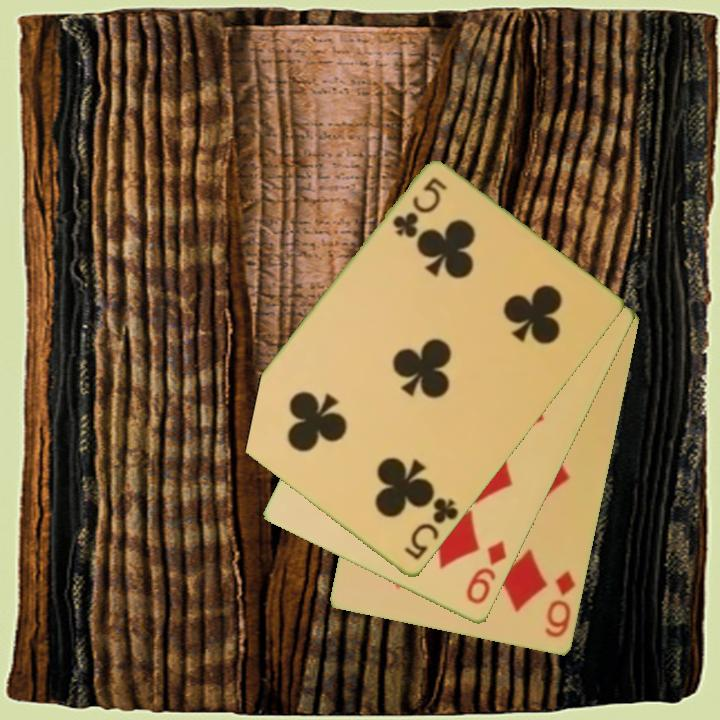5c: (400, 494, 462, 564), (388, 174, 450, 242)
6d: (542, 568, 579, 641)
9d: (463, 537, 510, 608)
